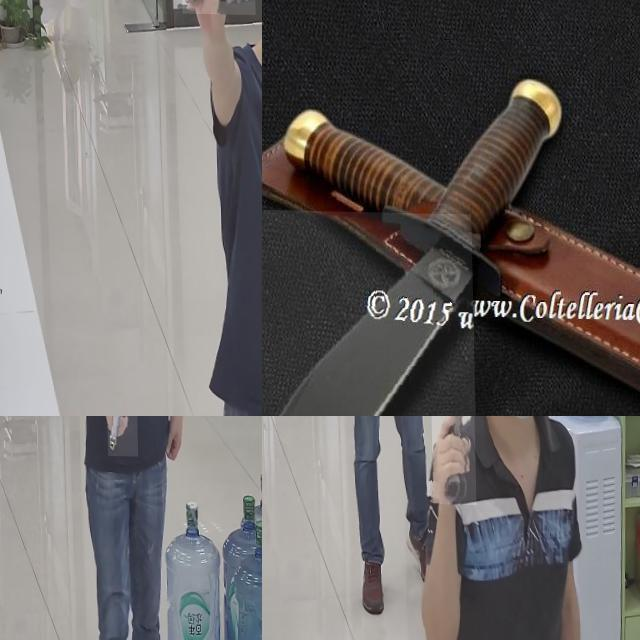-: (262, 209, 476, 416)
gun-knife-thesis - v11 Yolov5 augmented: (178, 0, 254, 92), (428, 416, 474, 503), (105, 416, 136, 460)
